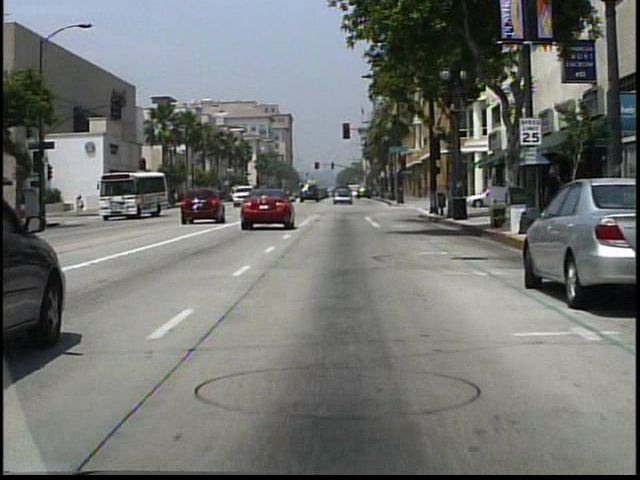person: (76, 194, 87, 215)
